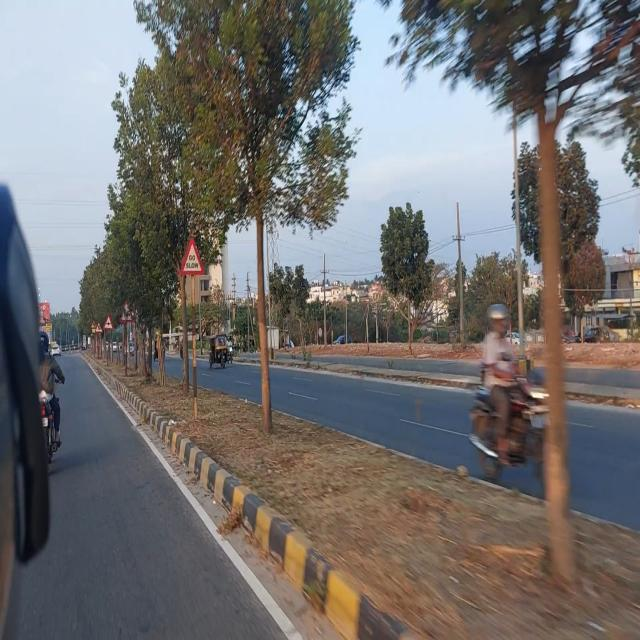bien_cam: (180, 235, 204, 278), (103, 314, 113, 333)
